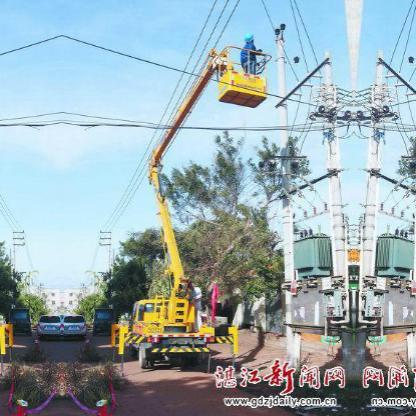helmet: (240, 29, 254, 42)
person: (238, 32, 262, 79)
